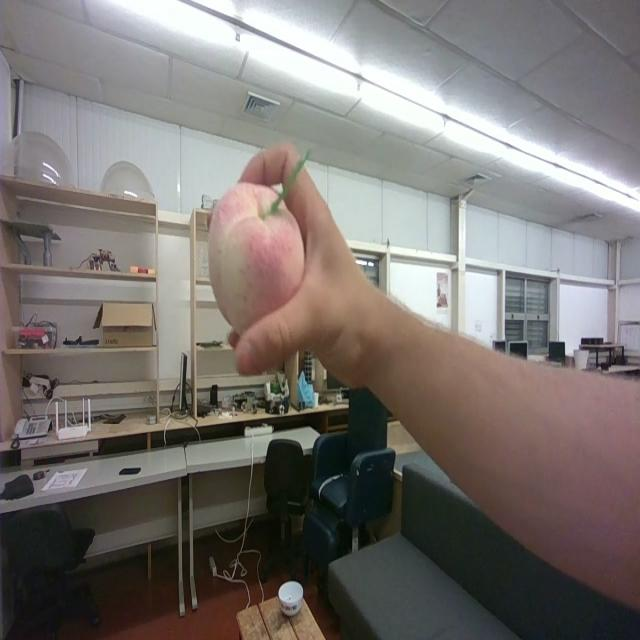peach: (209, 182, 304, 333)
